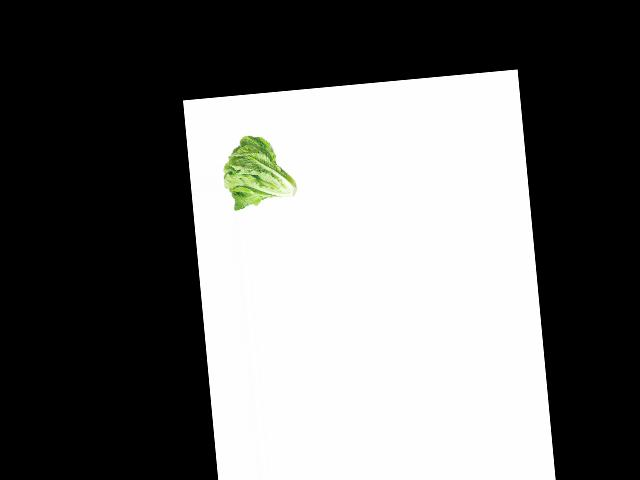lettuce: (219, 130, 301, 210)
